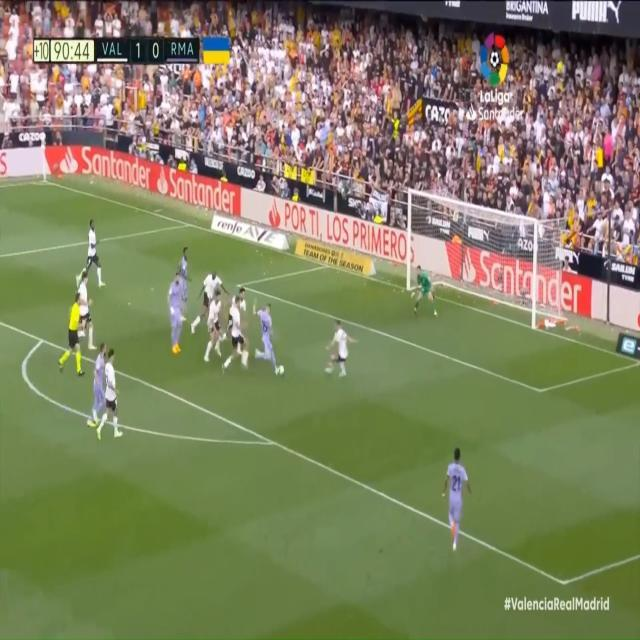ball: (276, 359, 286, 380)
goalkeeper: (409, 255, 440, 318)
player: (445, 445, 469, 552), (189, 263, 221, 337), (325, 320, 359, 387), (86, 343, 112, 430), (253, 298, 281, 370), (99, 347, 119, 445), (224, 295, 246, 377), (165, 270, 184, 357), (76, 270, 96, 351), (85, 218, 105, 291), (205, 285, 223, 366), (179, 243, 196, 324), (237, 283, 250, 346)
referee: (62, 292, 86, 378)
